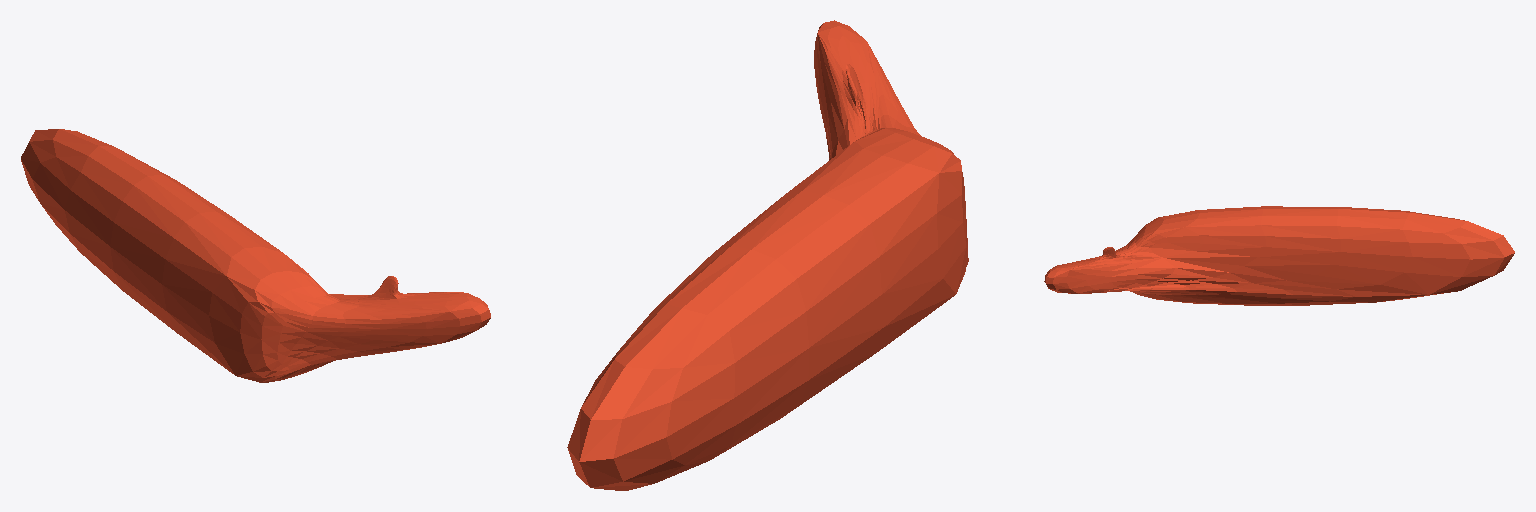
URDF robot description (blob325):

<robot name="blob325">
  <link name="random_obj_325">
    <contact>
      <lateral_friction value="1.0"/>
      <rolling_friction value="0.0"/>
      <inertia_scaling value="3.0"/>
      <contact_cfm value="0.0"/>
      <contact_erp value="1.0"/>
    </contact>
    <inertial>
      <origin rpy="0 0 0" xyz="0 0 0"/>
      <mass value="0.0824"/>
      <inertia ixx="1" ixy="0" ixz="0" iyy="1" iyz="0" izz="0"/>
    </inertial>
    <visual>
      <origin rpy="0 0 0" xyz="0 0 0"/>
      <geometry>
        <mesh filename="325.obj" scale="0.0071 0.0071 0.0071"/>
      </geometry>
      <material name="blockmat">
        <color rgba="0.91 0.37 0.24 1"/>
      </material>
    </visual>
    <collision>
      <origin rpy="0 0 0" xyz="0 0 0"/>
      <geometry>
        <mesh filename="325_coll.obj" scale="0.0071 0.0071 0.0071"/>
      </geometry>
    </collision>
  </link>
</robot>

--- What the picture shows (computed from the rendered views, not written in the file) ---
3 views of the same robot in one strip: view 1: azimuth 30°, elevation 25°; view 2: azimuth 150°, elevation 25°; view 3: azimuth 270°, elevation 25° (orthographic).
Model blob325 with 1 links and 0 joints (none), rooted at random_obj_325, posed every joint at zero.
Links seen in each view (by area): view 1: random_obj_325; view 2: random_obj_325; view 3: random_obj_325.
Boxes of the visible links, bbox=[...] form: random_obj_325: bbox=[21, 129, 490, 382]; random_obj_325: bbox=[567, 20, 968, 490]; random_obj_325: bbox=[1044, 206, 1514, 305].
Bounding box of the posed robot: 0.0337 × 0.1002 × 0.0211 m (x, y, z).
Meshes: 1 distinct files referenced, 1 mesh visuals loaded (1 OBJ).
